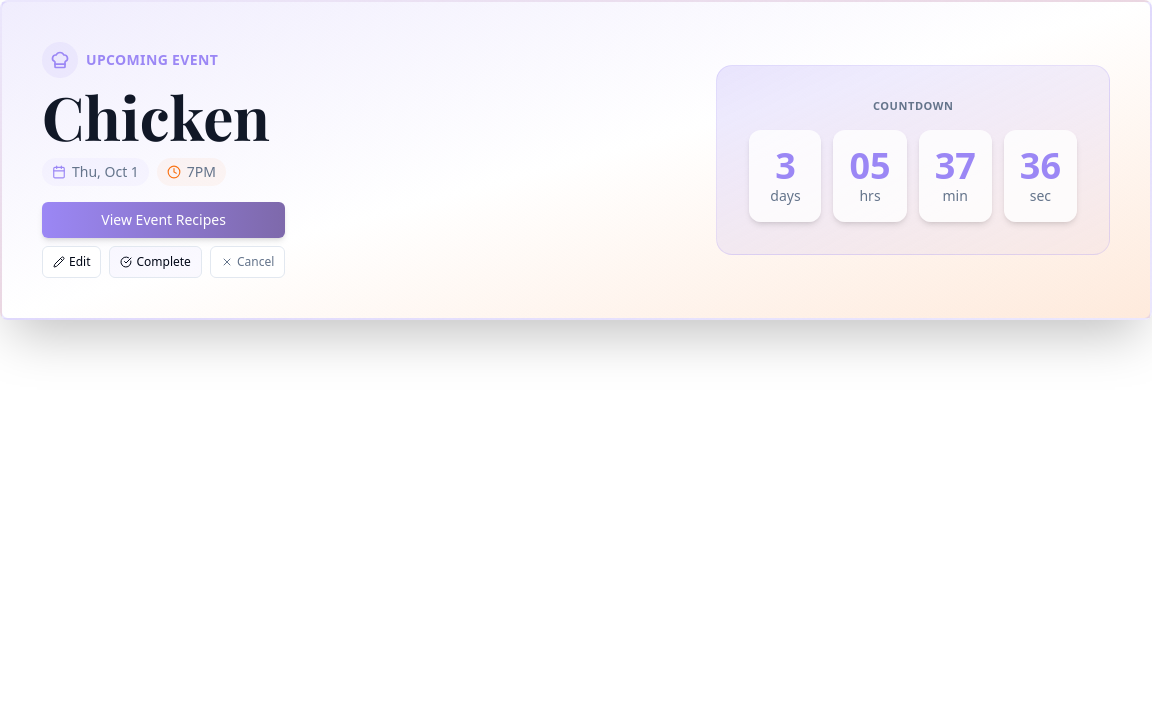
CountdownCard › opens edit dialog when Edit is clicked
What coordinates should you click on to do the following:
click the button "Edit"
I would click on:
 (72, 262)
Its box is top-left (42, 246), bottom-right (102, 278).
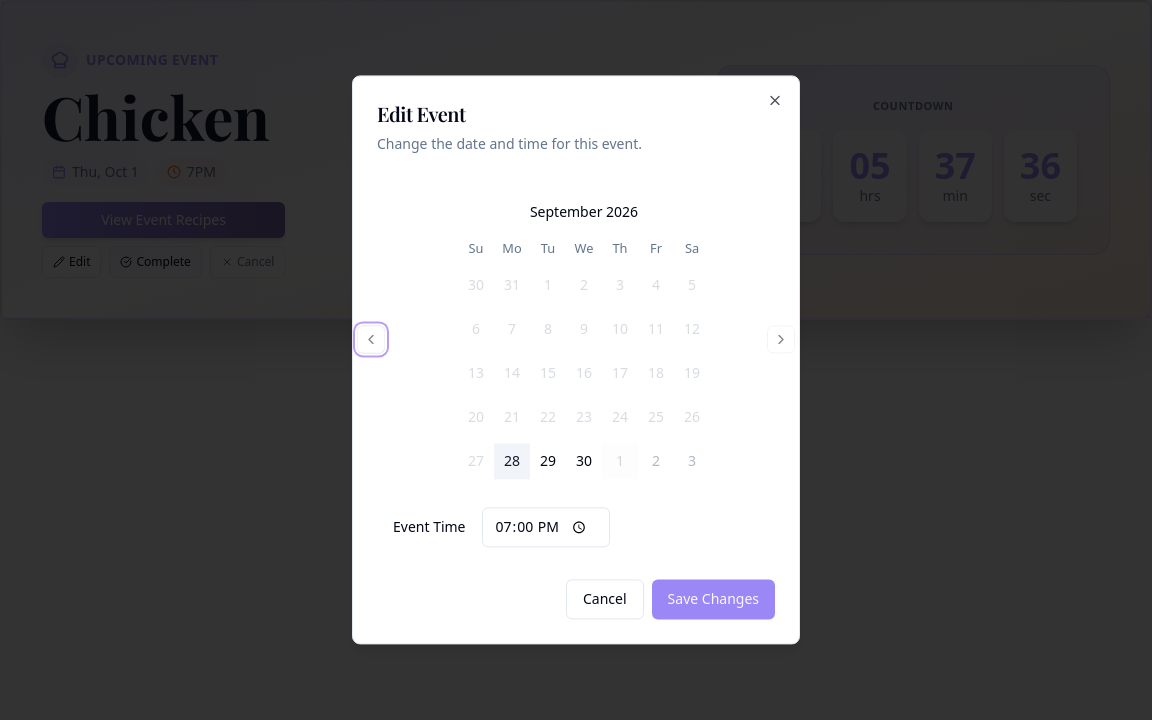
Check: the heading "Edit Event" is shown, box top-left (377, 100), bottom-right (466, 127)
Check: the text "Change the date and time for this event." is shown, box top-left (377, 134), bottom-right (642, 153)
